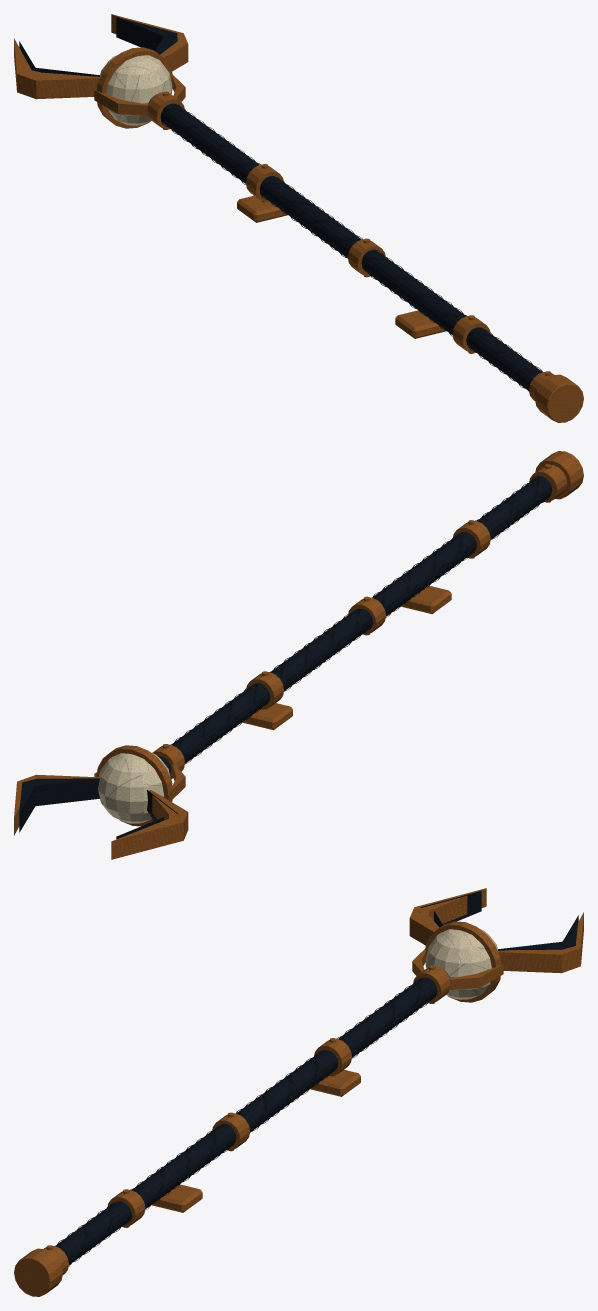
The model's file is storm-conductor-staff-stowed.glb.
3 renders of one model, top to bottom at view 1: azimuth 30°, elevation 25°; view 2: azimuth 150°, elevation 25°; view 3: azimuth 330°, elevation 25°, orthographic.
Visible parts, largest first — view 1: Dark woven shaft grip, Ivory conductor pearl, Copper fork tine shell, Staff flared pommel, Dark fork tine inset.001, Orb equatorial copper cradle, Copper fork tine shell.001, Back carry clasp, Back carry clasp.001, Conductor cradle horn, Copper staff segmented ferrule.001, Copper staff segmented ferrule.003 (+2 smaller); view 2: Dark woven shaft grip, Ivory conductor pearl, Copper fork tine shell, Dark fork tine inset.001, Orb equatorial copper cradle, Staff flared pommel, Back carry clasp, Back carry clasp.001, Copper staff segmented ferrule, Copper staff segmented ferrule.003, Copper staff segmented ferrule.001, Copper staff segmented ferrule.002 (+1 smaller); view 3: Dark woven shaft grip, Ivory conductor pearl, Copper fork tine shell.001, Staff flared pommel, Copper fork tine shell, Orb equatorial copper cradle, Back carry clasp, Back carry clasp.001, Conductor cradle horn.001, Copper staff segmented ferrule.001, Copper staff segmented ferrule.003, Copper staff segmented ferrule.002 (+3 smaller).
Part boxes in pixels (x1,y1,x2,y2): Dark woven shaft grip: (148, 96, 542, 389); Ivory conductor pearl: (99, 54, 172, 125); Copper fork tine shell: (14, 38, 99, 99); Staff flared pommel: (535, 374, 583, 422); Dark fork tine inset.001: (116, 17, 177, 54); Orb equatorial copper cradle: (96, 47, 172, 128); Copper fork tine shell.001: (111, 14, 188, 71); Back carry clasp: (395, 310, 446, 338); Back carry clasp.001: (237, 195, 287, 222); Conductor cradle horn: (94, 90, 148, 115); Copper staff segmented ferrule.001: (452, 316, 490, 353); Copper staff segmented ferrule.003: (246, 164, 283, 201); Dark woven shaft grip: (158, 477, 552, 773); Ivory conductor pearl: (98, 753, 170, 823); Copper fork tine shell: (111, 790, 188, 859); Dark fork tine inset.001: (19, 778, 99, 832); Orb equatorial copper cradle: (96, 745, 172, 826); Staff flared pommel: (535, 451, 583, 499); Back carry clasp: (401, 585, 451, 613); Back carry clasp.001: (242, 703, 292, 730); Copper staff segmented ferrule: (529, 465, 567, 501); Copper staff segmented ferrule.003: (246, 672, 283, 709); Copper staff segmented ferrule.001: (453, 521, 490, 557); Copper staff segmented ferrule.002: (348, 597, 385, 634); Dark woven shaft grip: (55, 970, 449, 1264); Ivory conductor pearl: (425, 928, 498, 999); Copper fork tine shell.001: (498, 912, 583, 973); Staff flared pommel: (14, 1248, 62, 1296); Copper fork tine shell: (409, 888, 486, 945); Orb equatorial copper cradle: (425, 921, 501, 1002); Back carry clasp: (151, 1184, 202, 1212); Back carry clasp.001: (310, 1069, 360, 1096); Conductor cradle horn.001: (449, 964, 503, 989); Copper staff segmented ferrule.001: (107, 1190, 145, 1227); Copper staff segmented ferrule.003: (314, 1038, 351, 1075); Copper staff segmented ferrule.002: (212, 1113, 250, 1150).
Bounding box in the file's own units: 0.34 × 0.148 × 1.78.
Materials: 3 (3 with a texture image).
